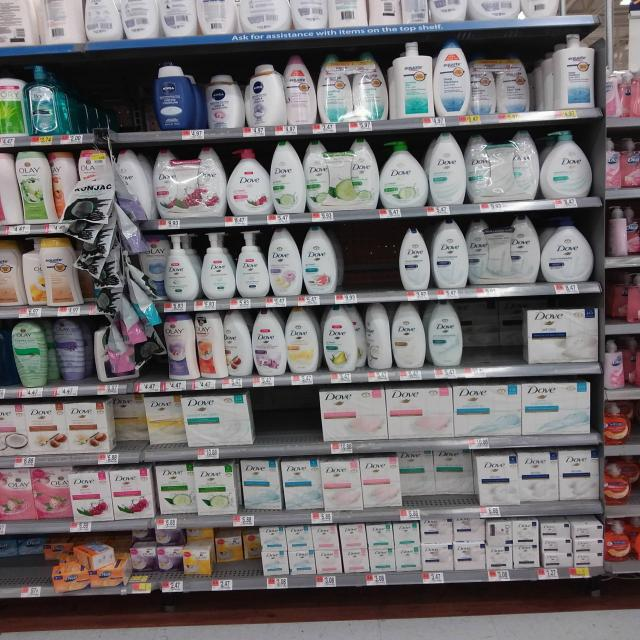void: (253, 388, 313, 456), (106, 60, 149, 141), (63, 57, 103, 144), (367, 220, 400, 302), (340, 223, 364, 304)
